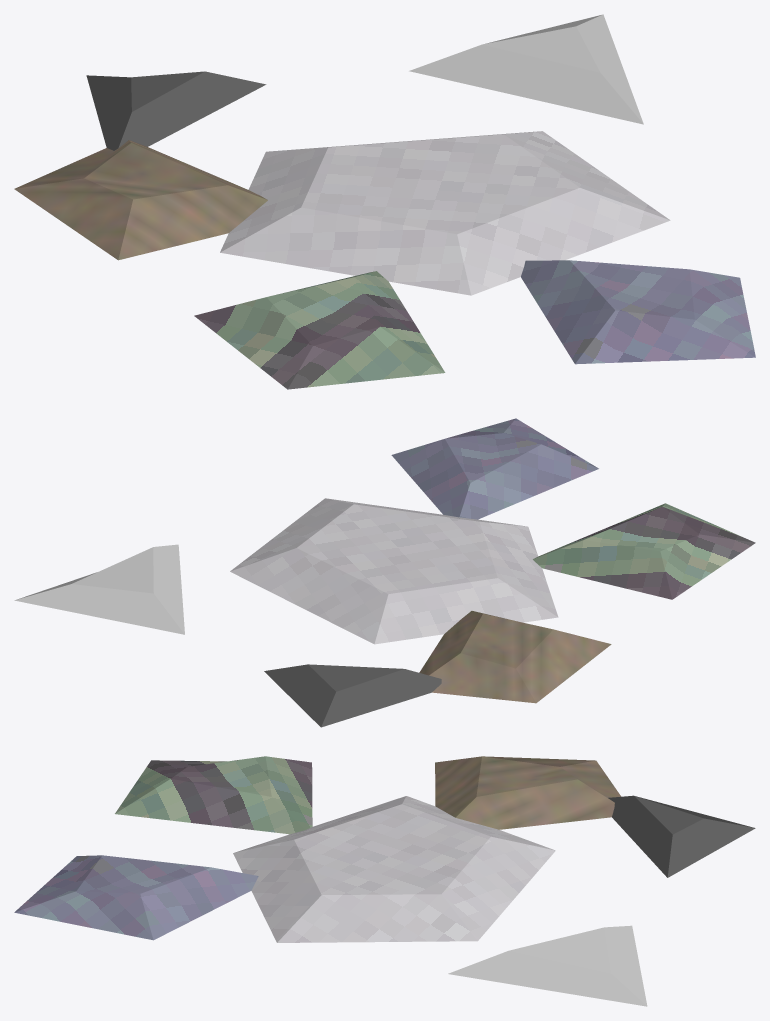
The model's file is Ground_Debris.fbx.
3 views of the same model, one above another, from view 1: azimuth 30°, elevation 25°; view 2: azimuth 150°, elevation 25°; view 3: azimuth 270°, elevation 25° (orthographic). The views are drawn at different scales.
Parts seen in each view (by area): view 1: Ground_Debris; view 2: Ground_Debris; view 3: Ground_Debris.
Boxes of the visible parts, bbox=[...] form: Ground_Debris: bbox=[14, 14, 755, 389]; Ground_Debris: bbox=[14, 418, 755, 727]; Ground_Debris: bbox=[14, 756, 755, 1006].
Size of the model in its own units: 73.1 by 3.26 by 93.06.
